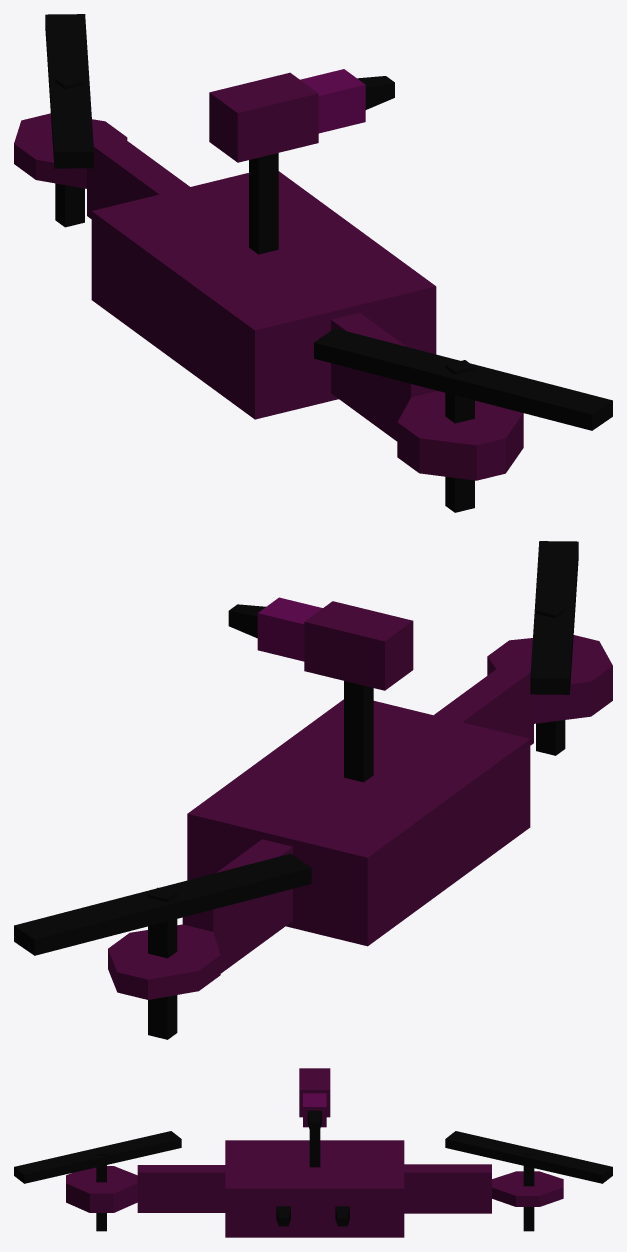
The model's file is drone.fbx.
3 views of the same model, one above another, from view 1: azimuth 30°, elevation 25°; view 2: azimuth 150°, elevation 25°; view 3: azimuth 270°, elevation 25° (orthographic). The views are drawn at different scales.
Visible parts, largest first — view 1: droneBody, rightPillar, leftPillar; view 2: droneBody, leftPillar, rightPillar; view 3: droneBody, rightPillar, leftPillar.
Part boxes in pixels (x1,y1,x2,y2): droneBody: (14, 69, 523, 512); rightPillar: (314, 328, 612, 430); leftPillar: (45, 14, 93, 168); droneBody: (108, 597, 612, 1039); leftPillar: (14, 853, 311, 955); rightPillar: (530, 541, 578, 694); droneBody: (66, 1068, 563, 1237); rightPillar: (14, 1131, 181, 1183); leftPillar: (445, 1131, 612, 1183).
Size of the model in its own units: 154 by 184 by 670.
